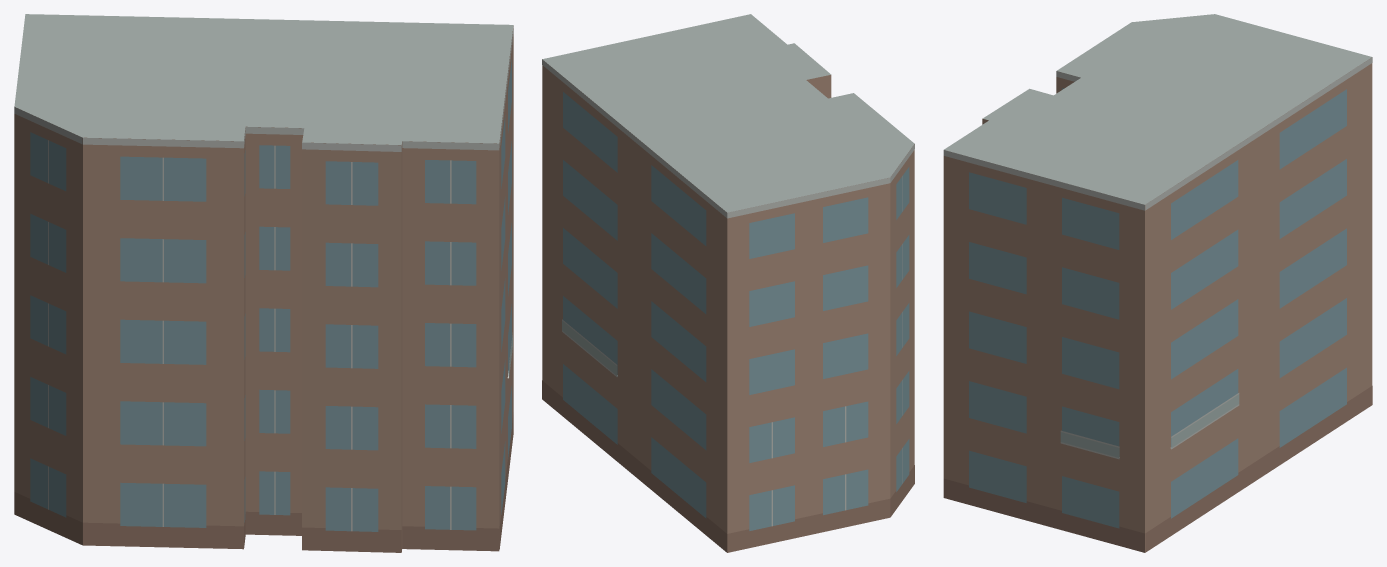
Rendered from survey-upis-32854401.glb.
3 views of the same model, side by side, from view 1: azimuth 30°, elevation 25°; view 2: azimuth 150°, elevation 25°; view 3: azimuth 270°, elevation 25° (orthographic). The views are drawn at different scales.
Visible parts, largest first — view 1: survey-upis-32854401.tmp; view 2: survey-upis-32854401.tmp; view 3: survey-upis-32854401.tmp.
Part boxes in pixels (x1,y1,x2,y2): survey-upis-32854401.tmp: (14,14,513,552); survey-upis-32854401.tmp: (542,14,914,552); survey-upis-32854401.tmp: (943,14,1372,552).
Size of the model in its own units: 16.95 by 14.4 by 16.09.
